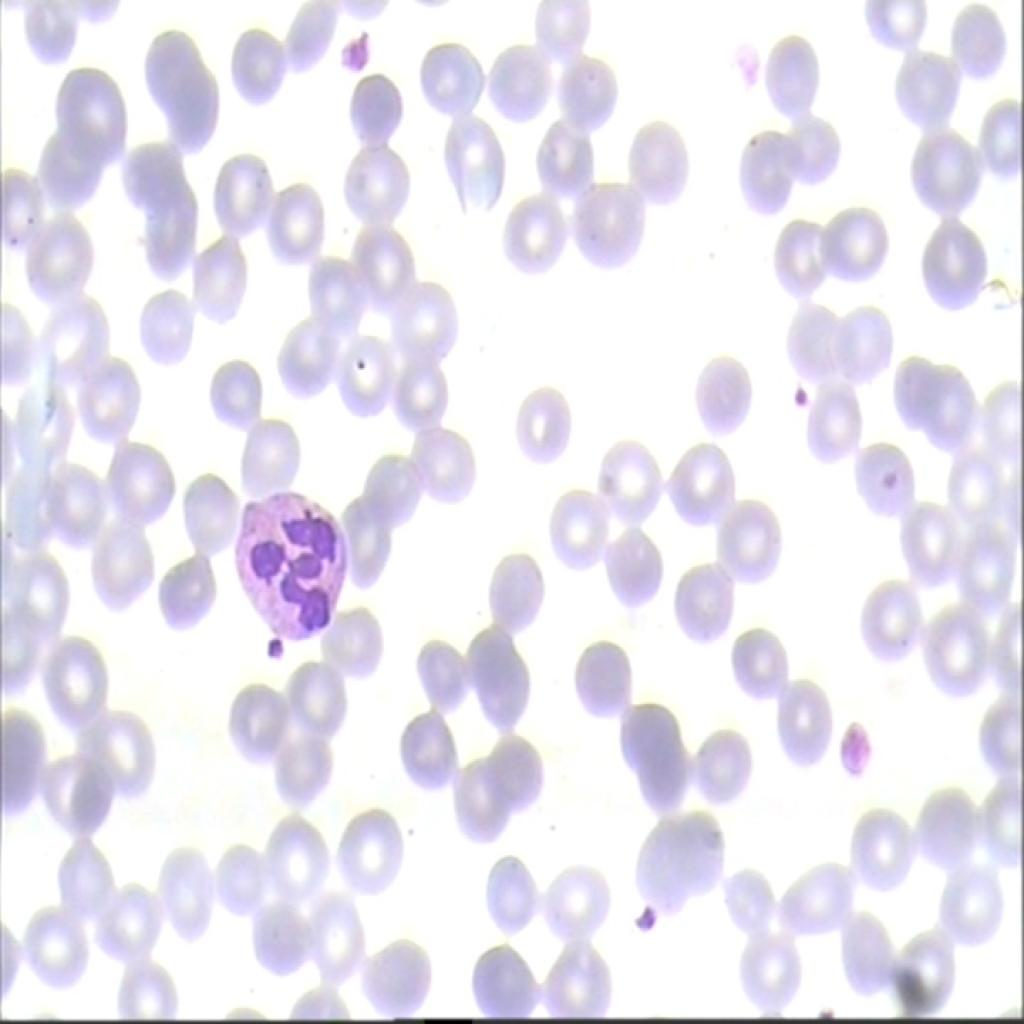Neutrofil: (229, 473, 354, 643)
Platelet: (333, 12, 385, 86), (833, 701, 869, 791), (778, 374, 816, 414), (257, 628, 286, 670), (634, 900, 660, 944)
